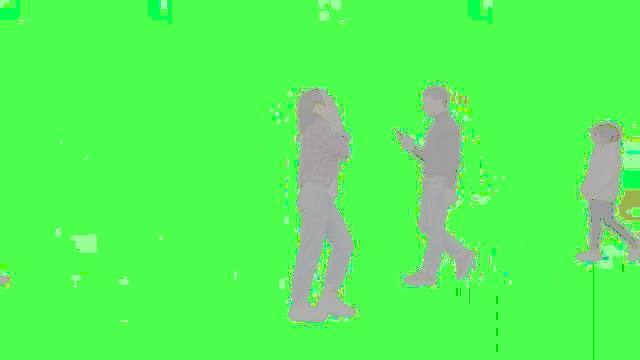berjalan: (389, 82, 473, 298), (294, 81, 358, 326), (560, 112, 640, 264)
